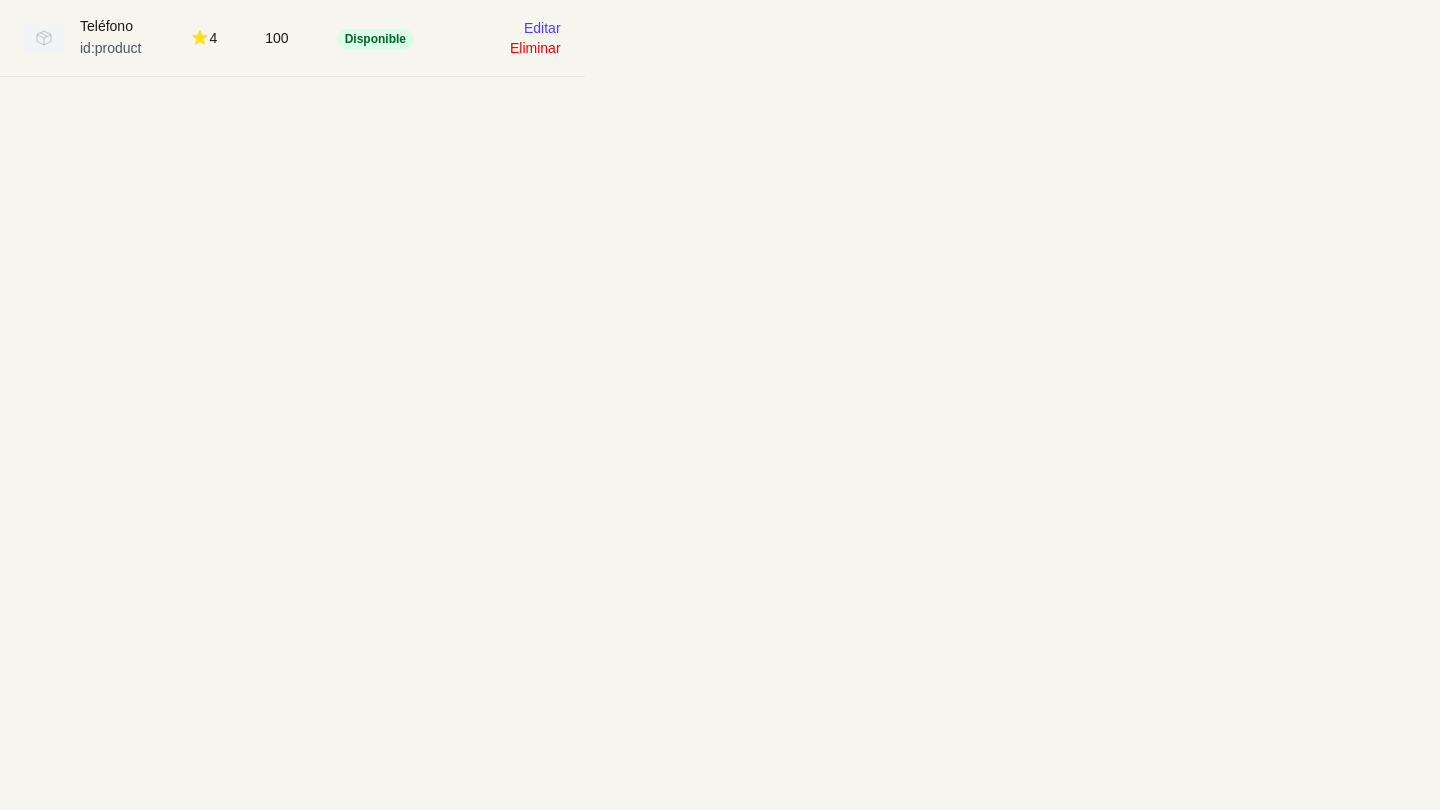
Test case: confirmación de eliminación › abrir y cancelar el diálogo nunca elimina un producto
The width and height of the screenshot is (1440, 810).
Later steps or results of the test are not shown.
Step 1. Click the button "Eliminar" → point(535, 48), box [510, 38, 561, 58]
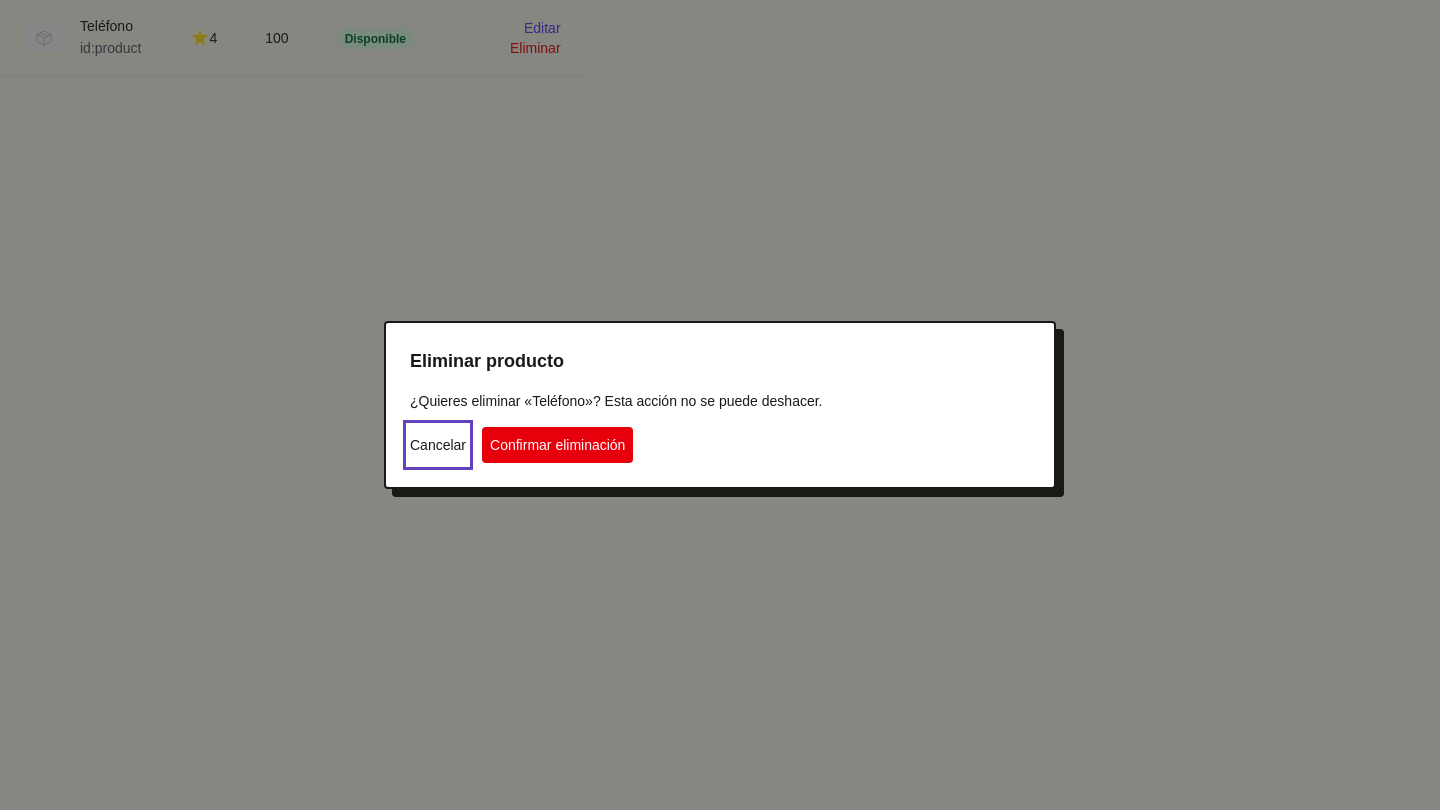
Expected: the dialog "Eliminar producto" is shown, [384, 321, 1056, 489]
